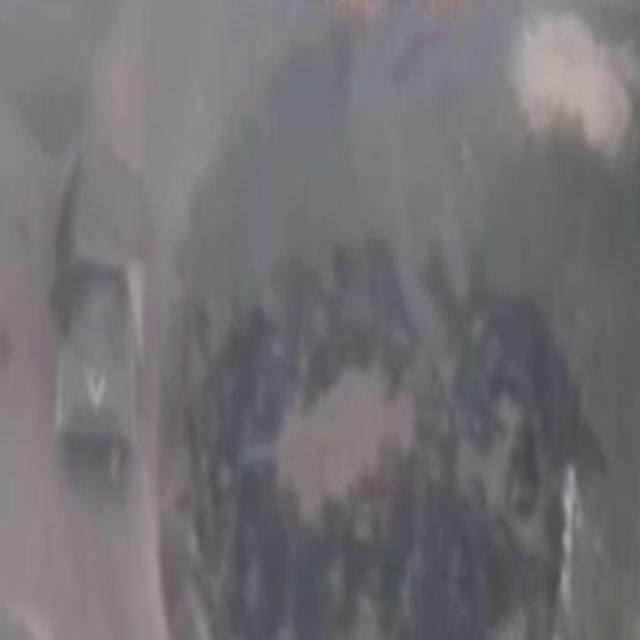vehicle: (49, 147, 152, 479)
